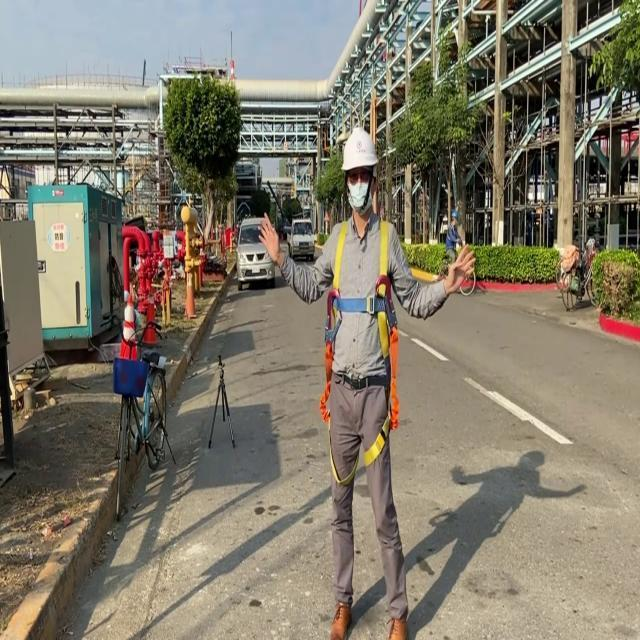Harness: (320, 221, 400, 466)
